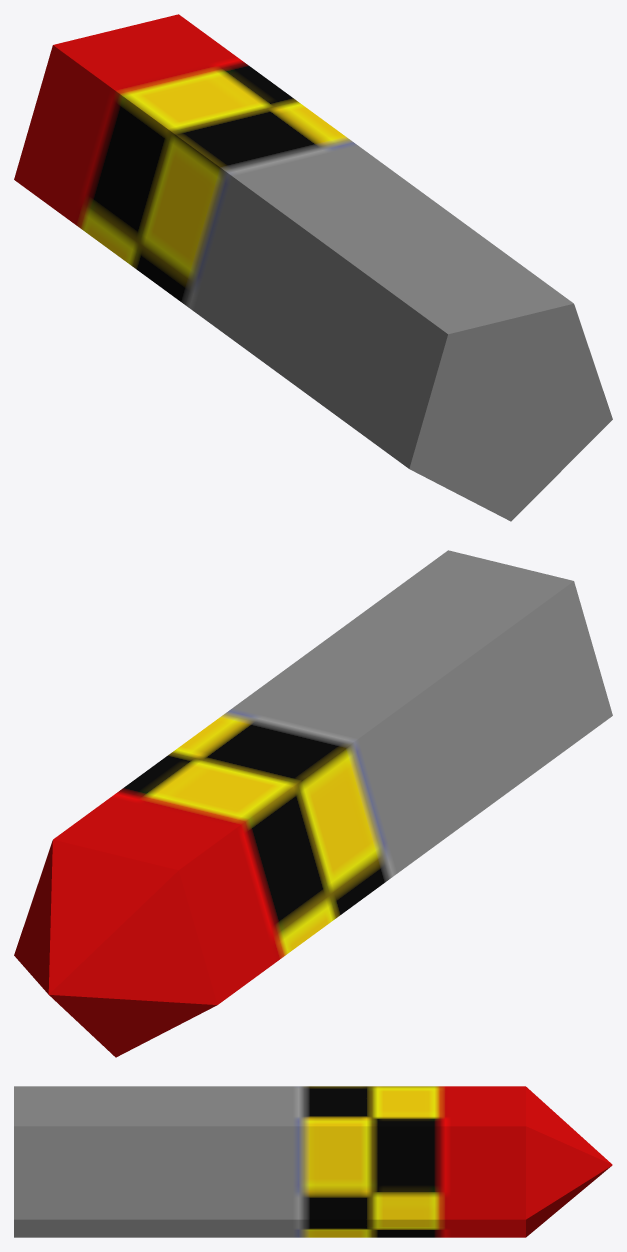
The model's file is player-projectile.fbx.
3 views of the same model, one above another, from view 1: azimuth 30°, elevation 25°; view 2: azimuth 150°, elevation 25°; view 3: azimuth 270°, elevation 25° (orthographic). The views are drawn at different scales.
Visible parts, largest first — view 1: Cylinder; view 2: Cylinder; view 3: Cylinder.
Part boxes in pixels (left/top/right/bottom): Cylinder: left=14, top=14, right=612, bottom=521; Cylinder: left=14, top=550, right=612, bottom=1057; Cylinder: left=14, top=1086, right=612, bottom=1237.
Size of the model in its own units: 25.67 by 24.41 by 101.
